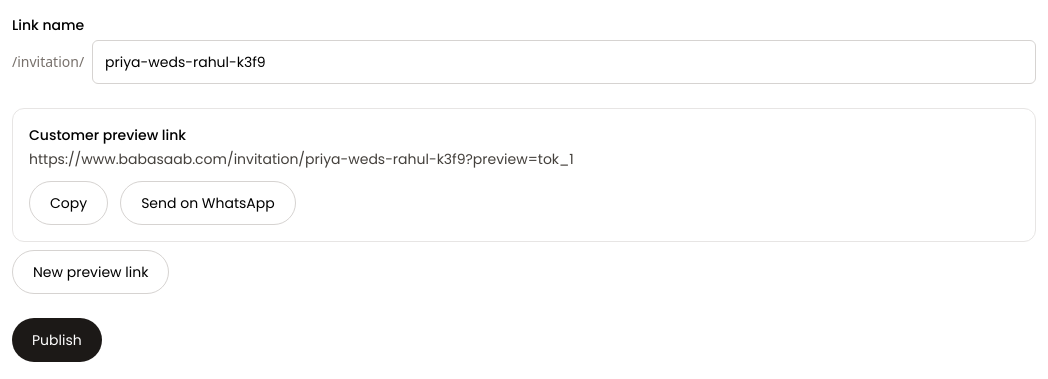
Test: PublishPanel — draft › copies a link and offers it on WhatsApp
Click the button "Copy": coordinates (69, 203) [29,181,108,225]
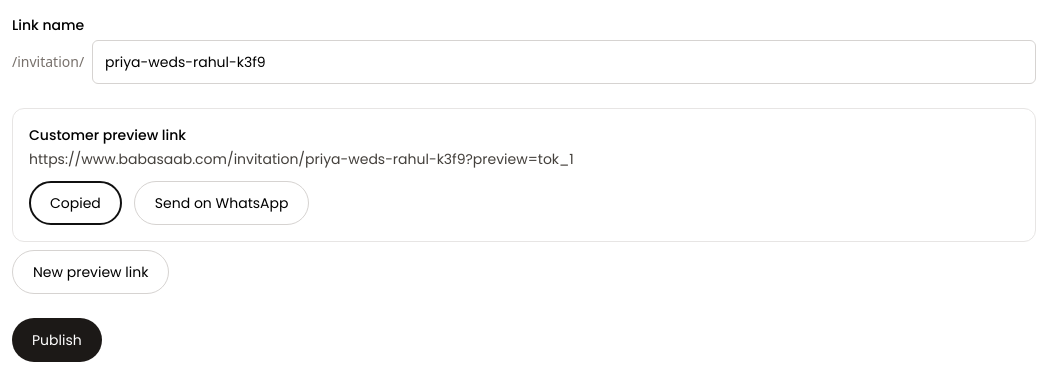
Check: the button "Copied" is shown, box [29,181,122,225]
